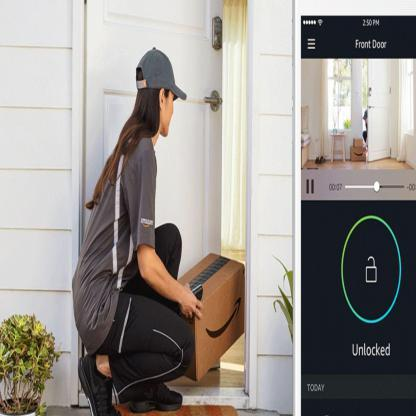package: (162, 249, 248, 384), (349, 144, 369, 162), (353, 136, 364, 149)
